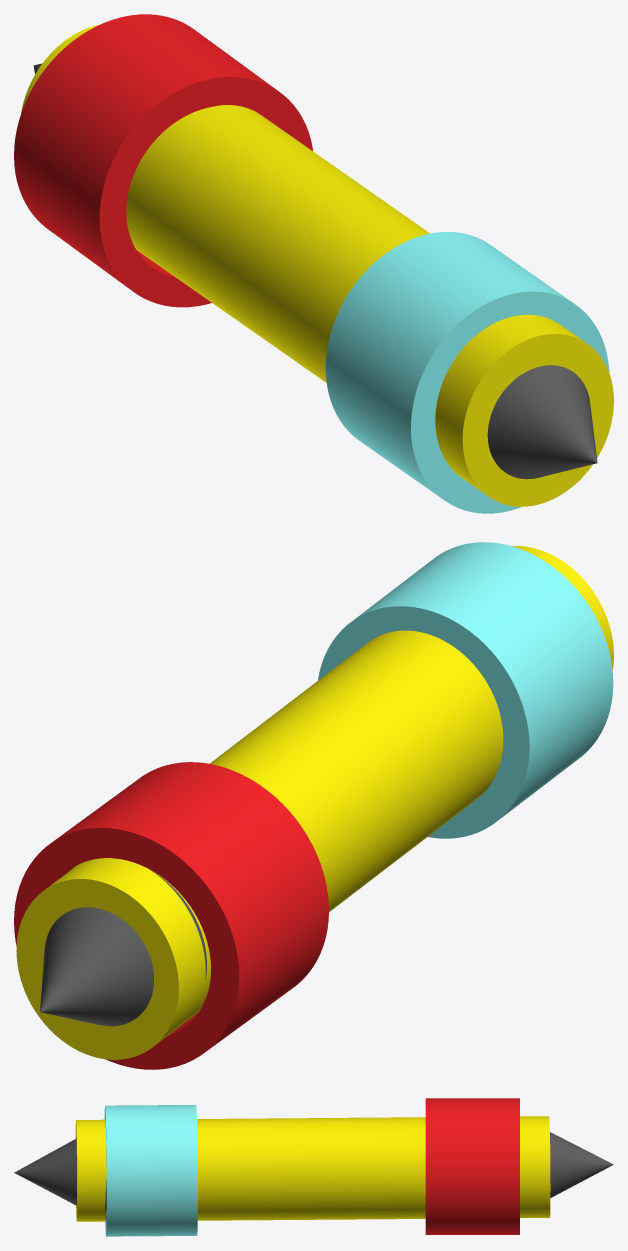
File: SpriteShooter.fbx
3 views of the same model, one above another, from view 1: azimuth 30°, elevation 25°; view 2: azimuth 150°, elevation 25°; view 3: azimuth 270°, elevation 25° (orthographic). The views are drawn at different scales.
Visible parts, largest first — view 1: root (×4); view 2: root (×4); view 3: root (×5).
Boxes of the visible parts, bbox=[...] form: root (×4): bbox=[14, 14, 613, 513]; root (×4): bbox=[14, 542, 613, 1069]; root (×5): bbox=[14, 1098, 613, 1236].
Bounding box in the file's own units: 0.1925 × 0.1869 × 0.8203.
5 materials, 5 textured.
